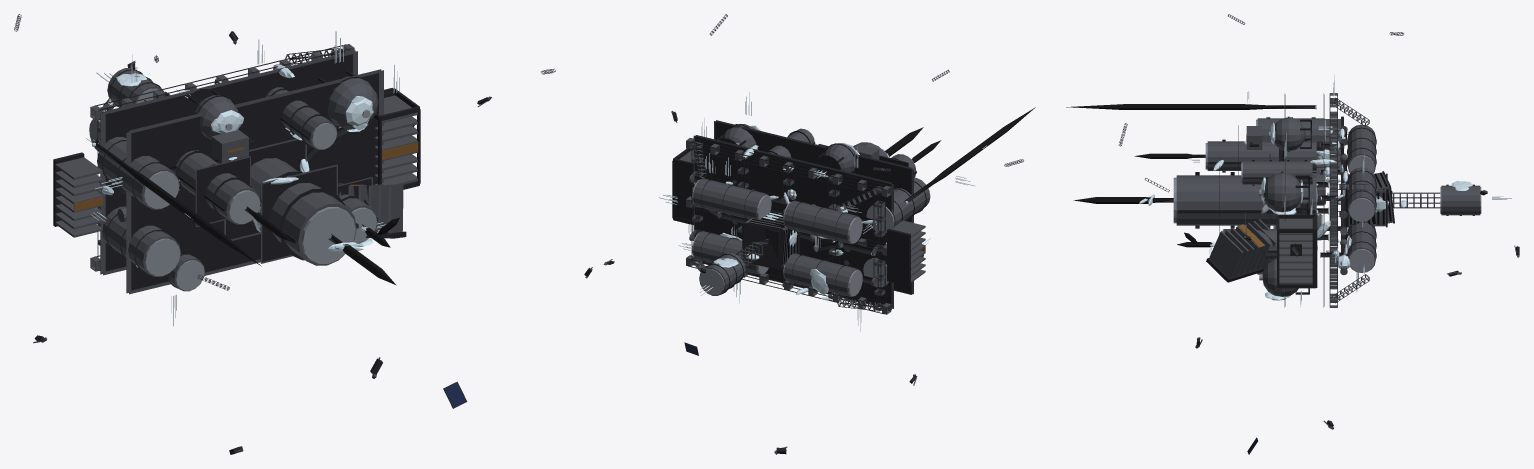
File: raffinerie.obj
3 renders of one model, left to right at view 1: azimuth 30°, elevation 25°; view 2: azimuth 150°, elevation 25°; view 3: azimuth 270°, elevation 25°, orthographic. The views are drawn at different scales.
Visible parts, largest first — view 1: hull2, hull, pale, ice, light, accent; view 2: hull2, hull, pale, ice, light, window; view 3: hull, hull2, ice, light, pale.
Part boxes in pixels (bbox=[...]): hull2: bbox=[14, 14, 554, 454]; hull: bbox=[14, 14, 555, 452]; pale: bbox=[89, 88, 376, 290]; ice: bbox=[86, 31, 399, 326]; light: bbox=[104, 151, 399, 285]; accent: bbox=[74, 142, 418, 211]; hull2: bbox=[584, 15, 1022, 454]; hull: bbox=[585, 14, 1023, 454]; pale: bbox=[692, 158, 914, 302]; ice: bbox=[658, 92, 986, 331]; light: bbox=[884, 107, 1035, 196]; window: bbox=[748, 211, 797, 265]; hull: bbox=[1118, 14, 1519, 429]; hull2: bbox=[1119, 14, 1519, 454]; ice: bbox=[1139, 74, 1511, 307]; light: bbox=[1066, 104, 1302, 247]; pale: bbox=[1173, 119, 1481, 280].
Bounding box in the file's own units: 32.9 × 38.27 × 43.79.
